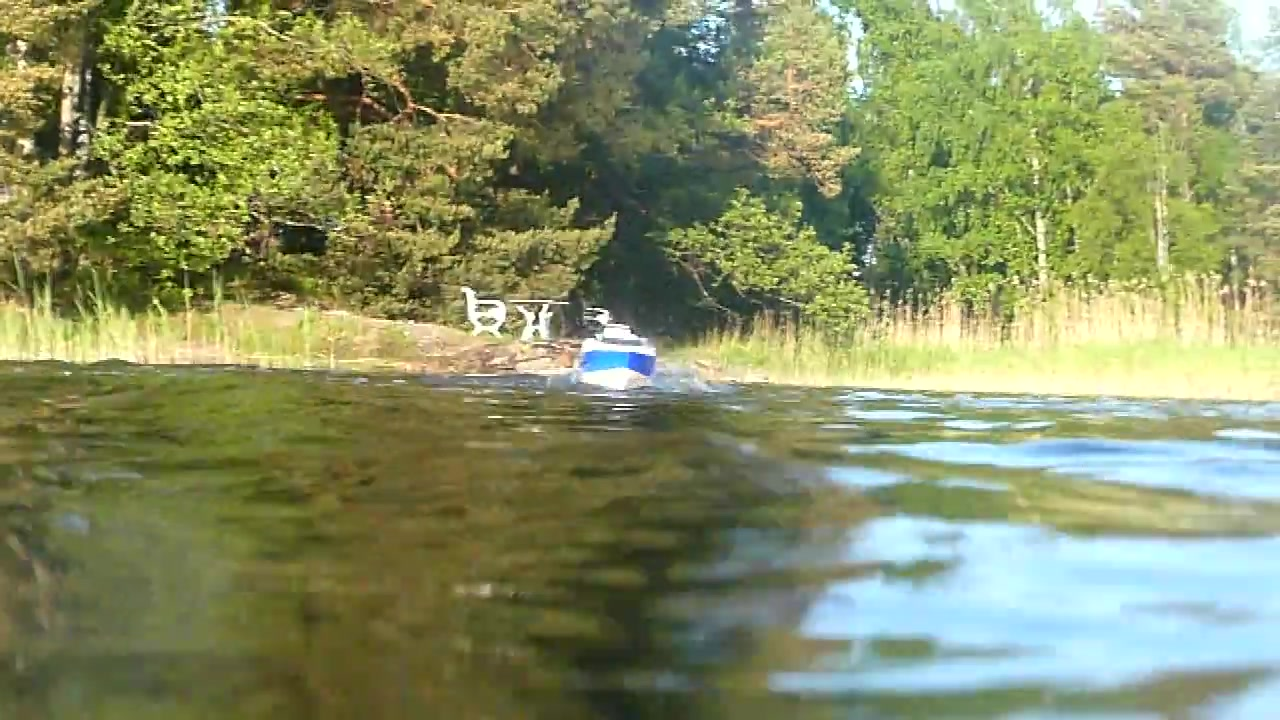boat: (572, 320, 664, 399)
